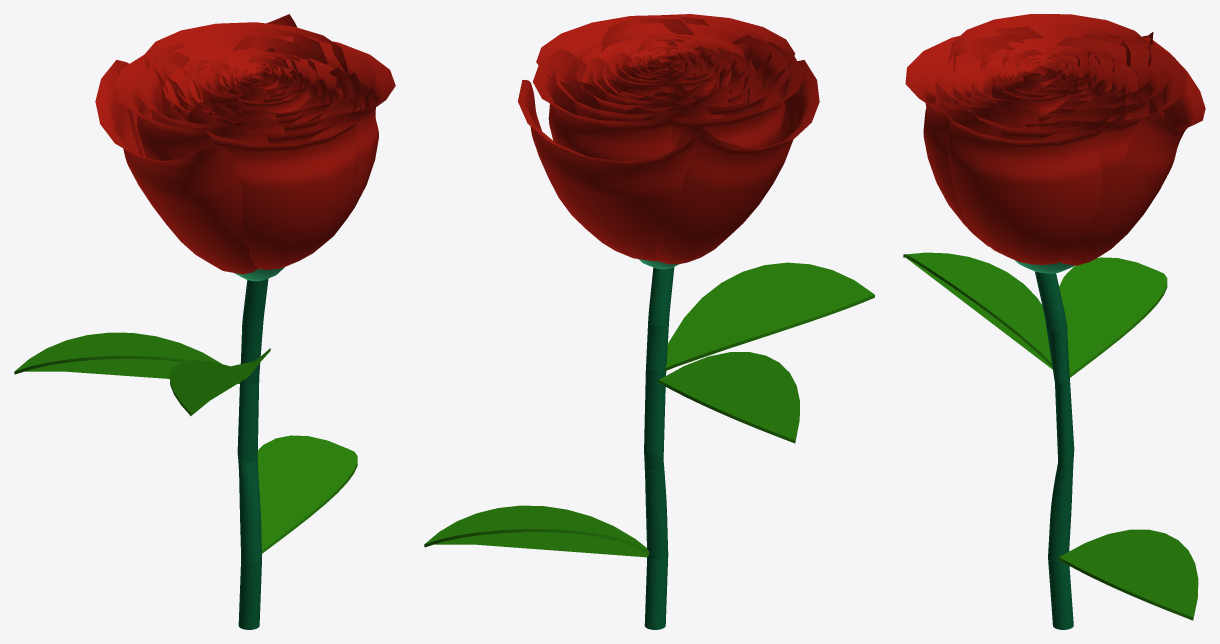
The model's file is rose.glb.
3 views of the same model, side by side, from view 1: azimuth 30°, elevation 25°; view 2: azimuth 150°, elevation 25°; view 3: azimuth 270°, elevation 25° (orthographic).
Parts seen in each view (by area): view 1: Sphere.003; view 2: Sphere.003; view 3: Sphere.003.
Boxes of the visible parts, box(x1,y1,x2,y2) form: Sphere.003: box(14, 14, 395, 629); Sphere.003: box(424, 14, 874, 629); Sphere.003: box(903, 14, 1205, 629).
Size of the model in its own units: 1.79 by 2.72 by 1.34.
